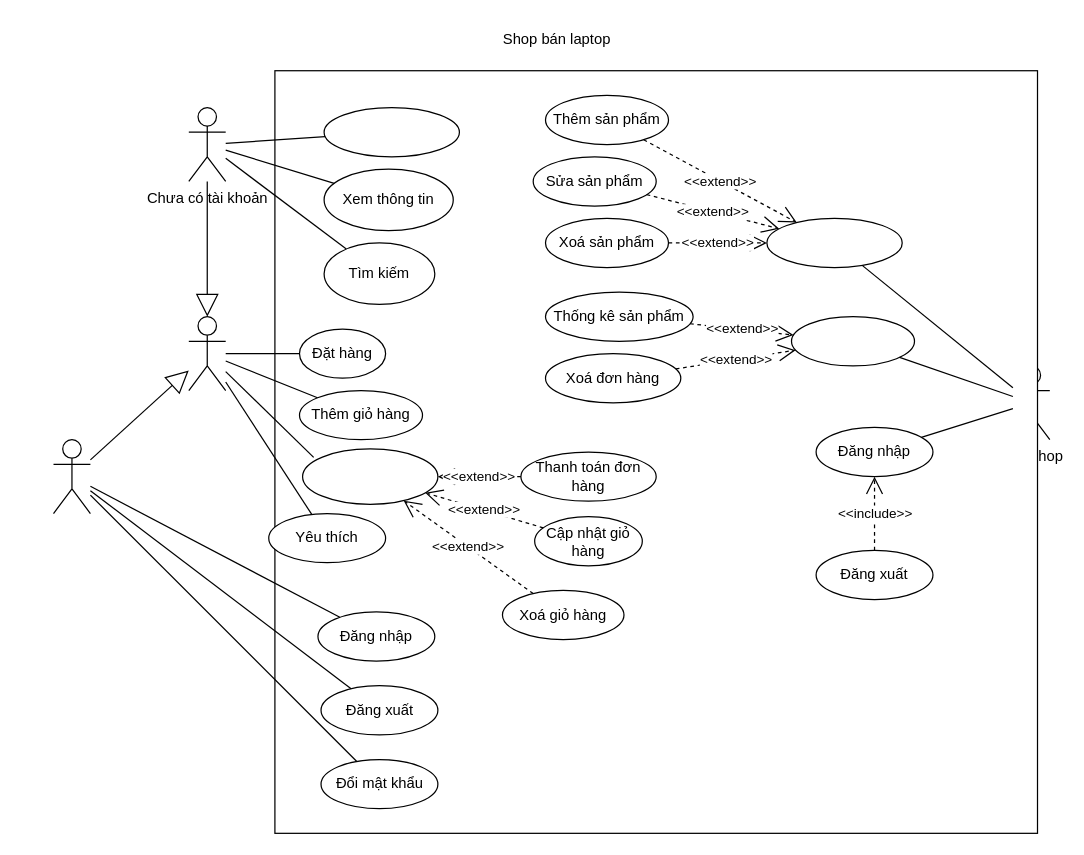
This 1084x855 diagram has some shape labels left out. Each missing label, with the centre of its shape:
"Khách hàng" goes at point (207, 353).
"Kiểm tra giỏ hàng" goes at point (369, 476).
"Quản lí sản phẩm" goes at point (834, 242).
"Quản lí đơn hàng" goes at point (852, 340).
"Đã có tài khoản" goes at point (71, 476).
"Đăng kí tài khoản" goes at point (391, 131).
